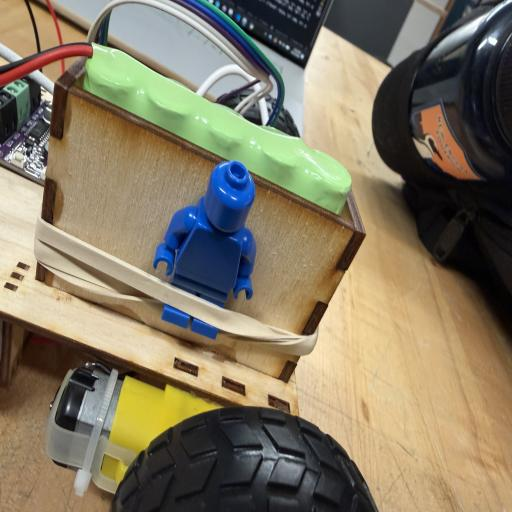Blue-Lego: (154, 161, 256, 307)
